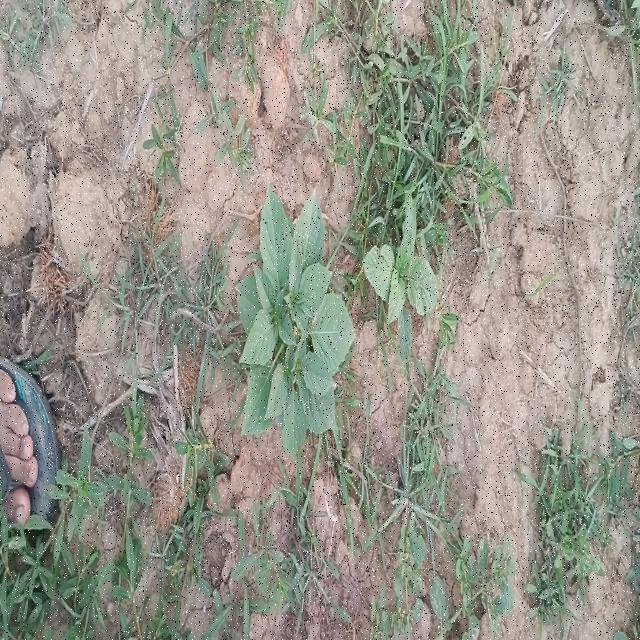plant: (238, 185, 354, 455), (363, 196, 438, 362)
